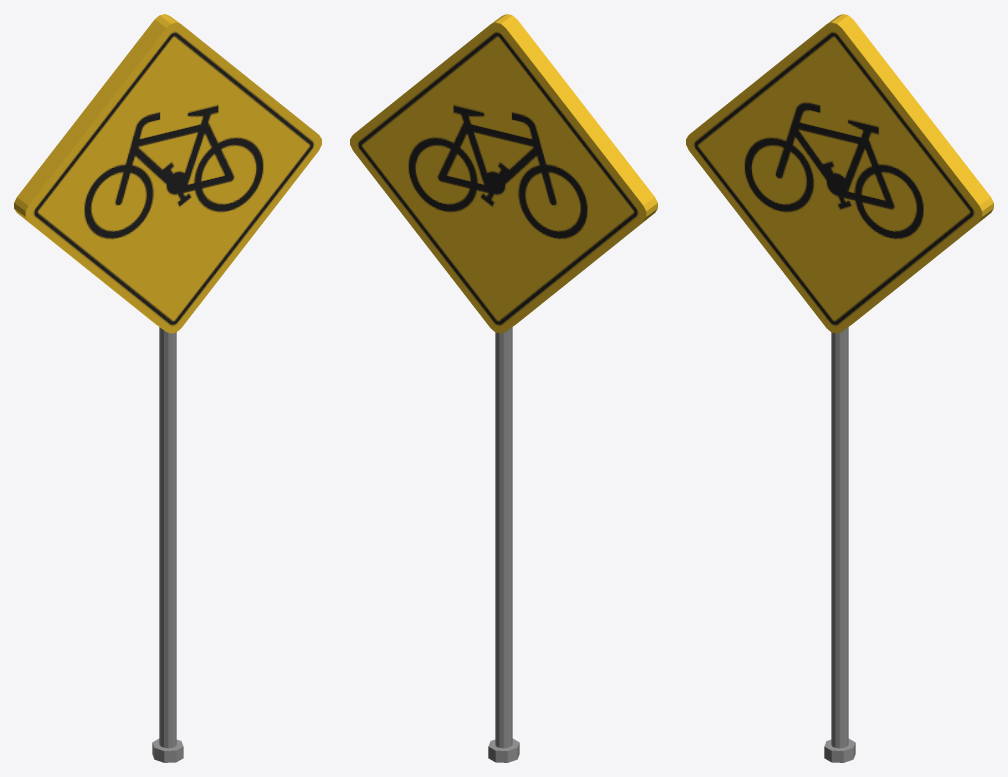
Rendered from D1_TRAFFIC_SIGN_4.fbx.
3 views of the same model, side by side, from view 1: azimuth 30°, elevation 25°; view 2: azimuth 150°, elevation 25°; view 3: azimuth 330°, elevation 25° (orthographic).
Visible parts, largest first — view 1: D1_SIGNAGE_BICYCLE; view 2: D1_SIGNAGE_BICYCLE; view 3: D1_SIGNAGE_BICYCLE.
Part boxes in pixels (left/top/right/bottom): D1_SIGNAGE_BICYCLE: left=14, top=14, right=321, bottom=762; D1_SIGNAGE_BICYCLE: left=350, top=14, right=657, bottom=762; D1_SIGNAGE_BICYCLE: left=686, top=14, right=993, bottom=762.
Size of the model in its own units: 120 by 287 by 11.91.
2 materials, 1 textured.
